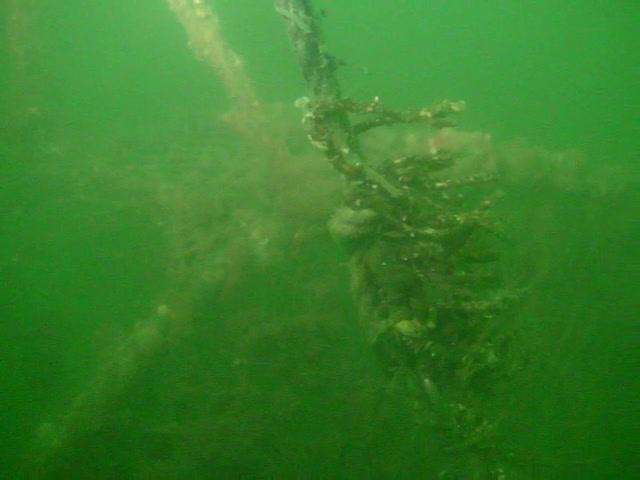bundle of ropes: (274, 0, 390, 340)
